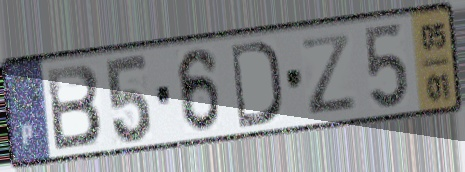5: (102, 50, 154, 146), (361, 21, 411, 110)
6: (174, 46, 223, 135)
B: (43, 61, 104, 153)
D: (228, 37, 284, 131)
Z: (297, 30, 359, 117)
